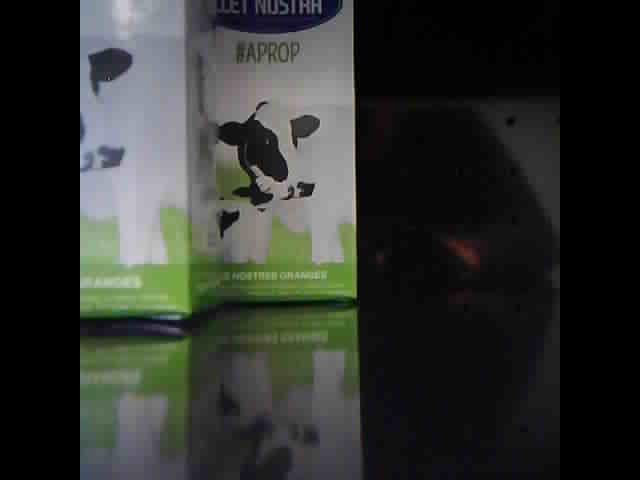leche: (215, 3, 354, 307), (82, 3, 211, 322)
